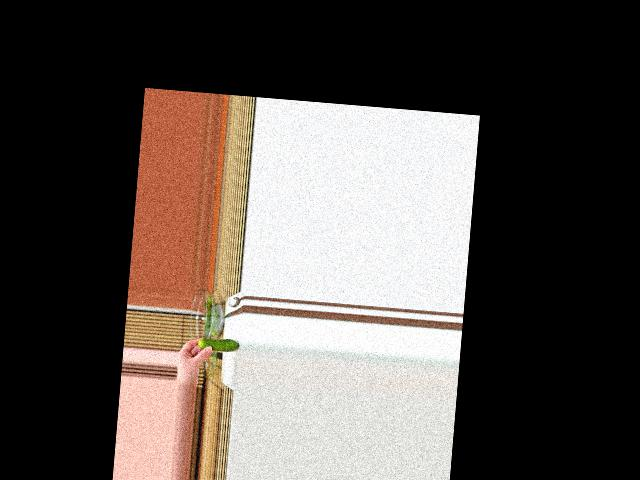cucumber: (197, 337, 239, 352)
